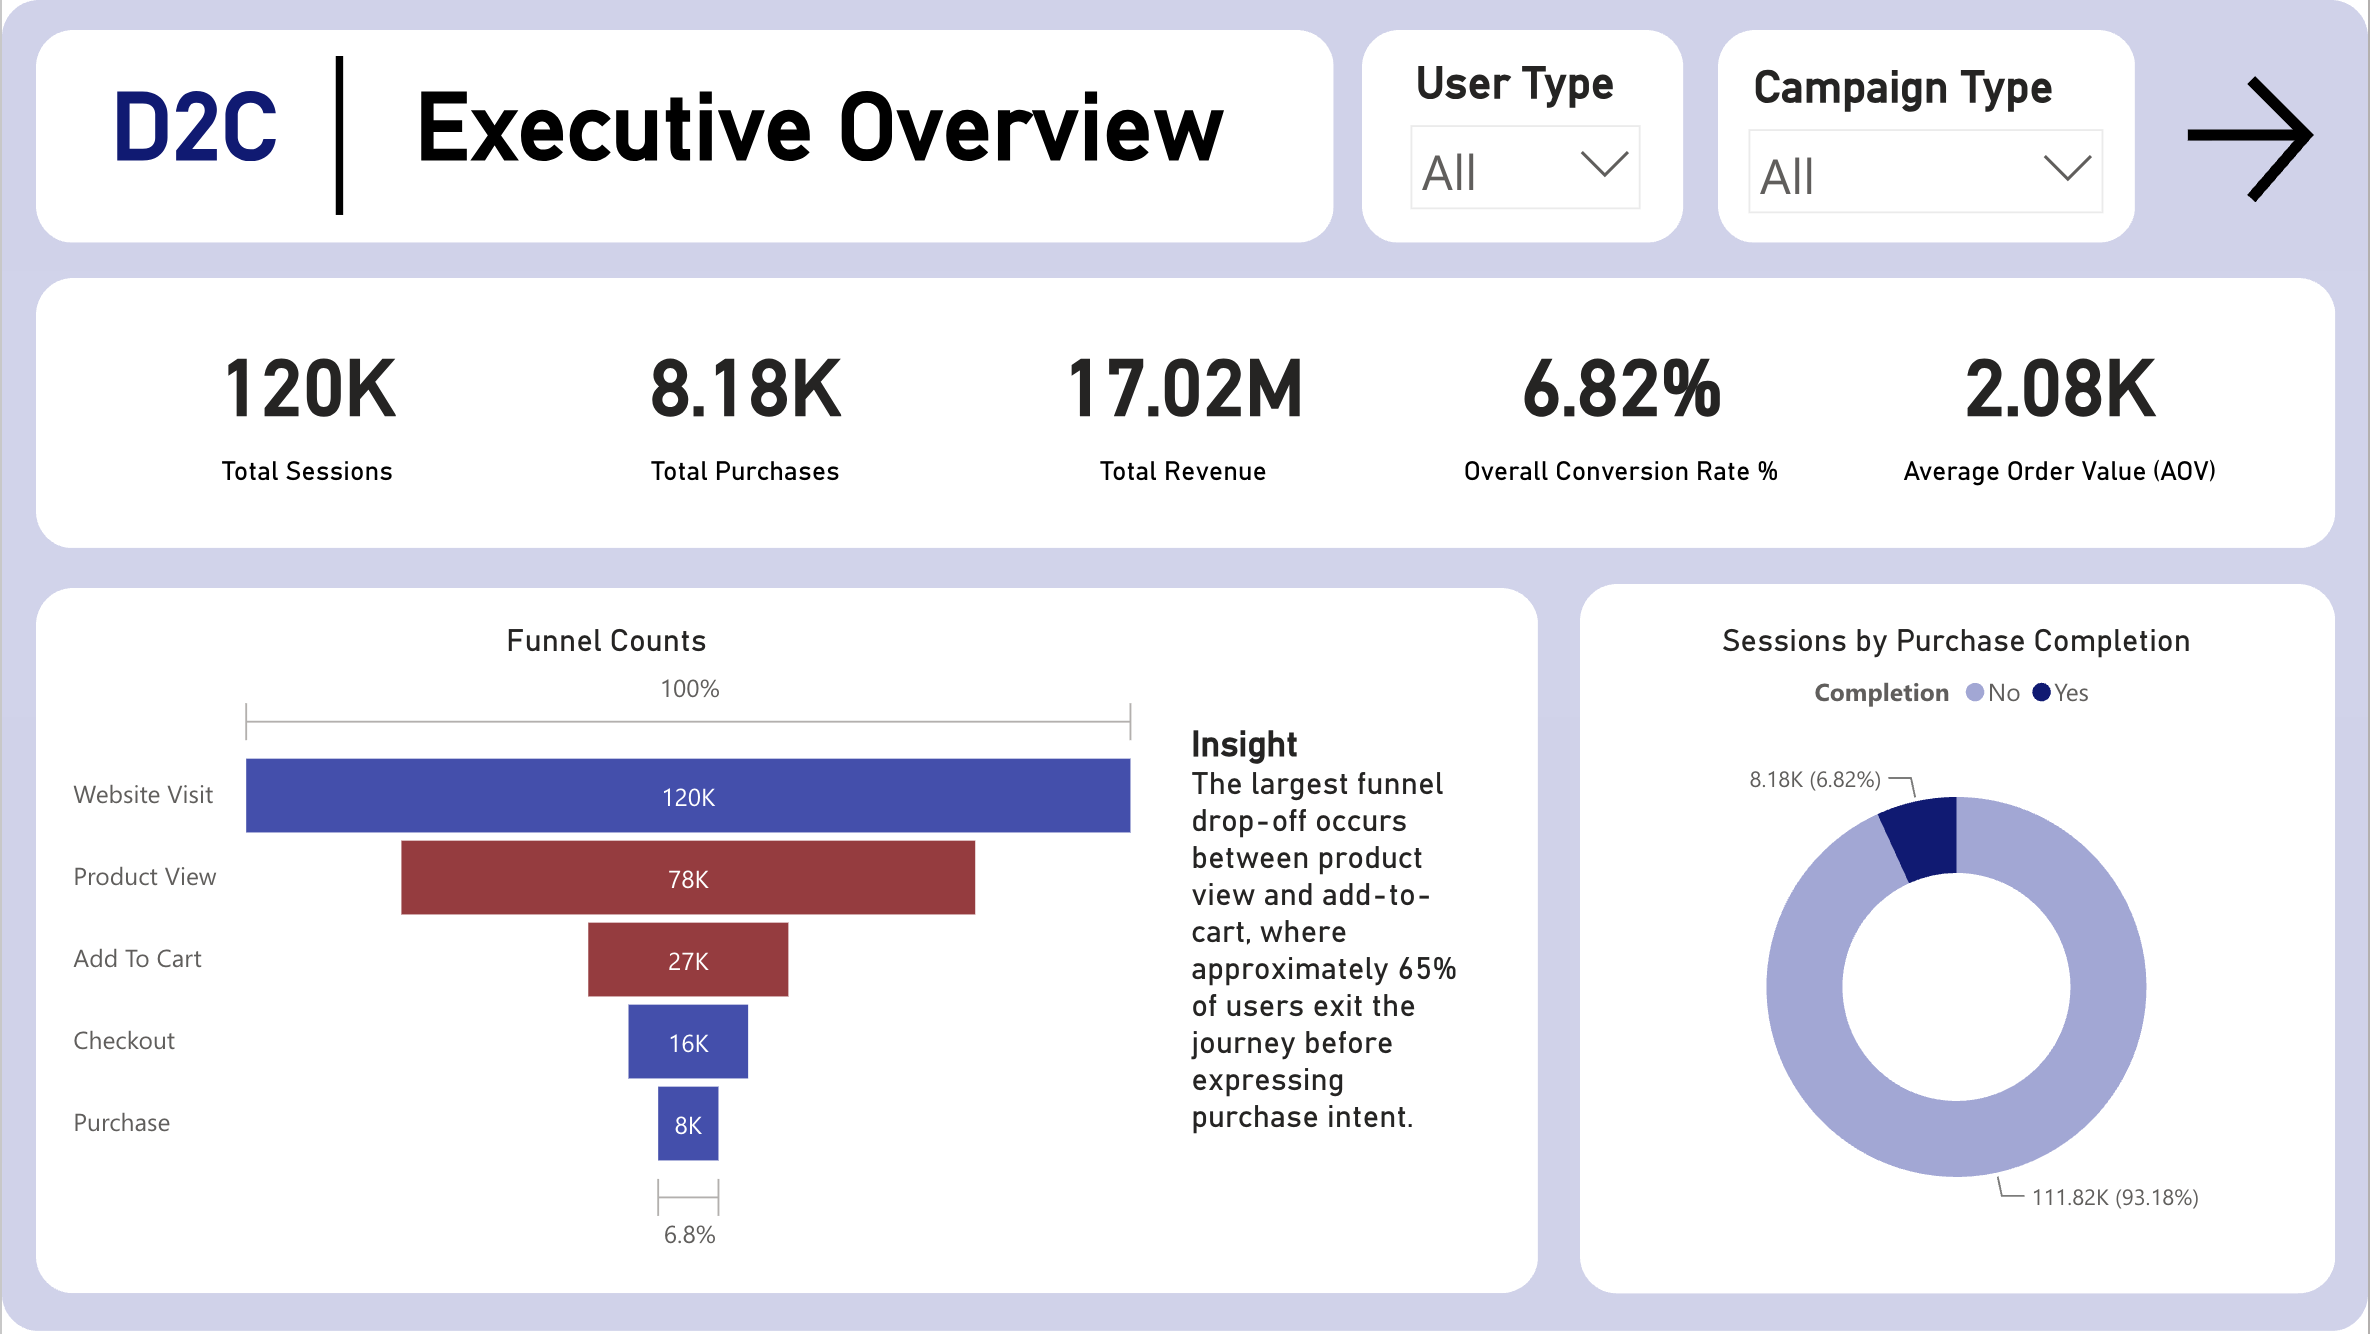

What the dashboard file says about the page in this screenshot:
{"tool":"powerbi","page":{"name":"Executive Overview","canvas":[1280,720],"ordinal":0},"visuals":[{"type":"shape","box":[0,0,1280,720.1],"z":0},{"type":"shape","box":[18.1,15.8,702.1,115.1],"z":1000},{"type":"textbox","box":[54.1,40.1,128.2,90.1],"z":2000},{"type":"shape","box":[138.2,30,88.1,86.1],"z":3000},{"type":"textbox","box":[218.3,40.1,464.7,90.1],"z":4000},{"type":"shape","box":[18,150.2,1243.9,146.2],"z":5000},{"type":"cardVisual","fields":{"Data":["Funnel.total_session","Funnel.total_purchases","Funnel.total_revenue","Funnel.overall_conversion_rate%","Funnel.AOV"]},"box":[33.9,173.8,1212.3,115.1],"z":6000},{"type":"shape","box":[18.1,318.3,812.7,381.5],"z":7000},{"type":"funnel","title":"Funnel Counts","fields":{"Y":["Funnel.website_visitors","Funnel.product_views","Funnel.cart_additions","Funnel.checking_out","Funnel.total_purchases"]},"box":[33.9,338.6,586.9,345.4],"z":8000},{"type":"shape","box":[853.3,316,408.6,383.8],"z":9000},{"type":"textbox","box":[638.9,388.3,162.5,241.6],"z":10000},{"type":"actionButton","box":[1173.9,29.3,81.3,92.6],"z":11000},{"type":"shape","box":[735.9,15.8,173.8,115.1],"z":12000},{"type":"donutChart","fields":{"Category":["Funnel.purchase_completed"],"Y":["CountNonNull(Funnel.session_id)"]},"box":[869.1,338.6,377,345.4],"z":13000},{"type":"slicer","fields":{"Values":["Funnel.user_type"]},"box":[751.7,29.3,144.5,85.8],"z":13001},{"type":"shape","box":[927.8,15.8,225.7,115.1],"z":13002},{"type":"slicer","fields":{"Values":["Funnel.campaign_type"]},"box":[934.6,31.6,212.2,85.8],"z":13003}]}

Visuals, with their boxes in screenshot pixels (x1, y1, x2, y2), scaled from the page's 1280x720 canvas onto the 2370x1334 screenshot:
shape: box(0, 0, 2369, 1333)
shape: box(34, 29, 1333, 243)
textbox: box(100, 74, 338, 241)
shape: box(256, 56, 419, 215)
textbox: box(404, 74, 1265, 241)
shape: box(33, 278, 2336, 549)
cardVisual - Funnel.total_session x Funnel.total_purchases: box(63, 322, 2307, 535)
shape: box(34, 590, 1538, 1297)
"Funnel Counts" funnel: box(63, 627, 1149, 1267)
shape: box(1580, 585, 2336, 1297)
textbox: box(1183, 719, 1484, 1167)
actionButton: box(2174, 54, 2324, 226)
shape: box(1363, 29, 1684, 243)
donutChart - Funnel.purchase_completed x CountNonNull(Funnel.session_id): box(1609, 627, 2307, 1267)
slicer - Funnel.user_type: box(1392, 54, 1659, 213)
shape: box(1718, 29, 2136, 243)
slicer - Funnel.campaign_type: box(1730, 59, 2123, 218)
